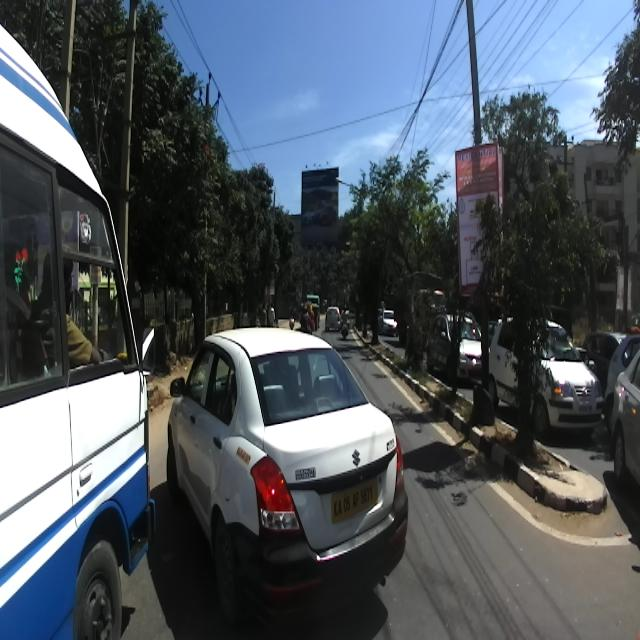bus ahead at: (2, 0, 156, 640)
car ahead at: (164, 322, 408, 607)
plant ahead at: (472, 95, 585, 472)
